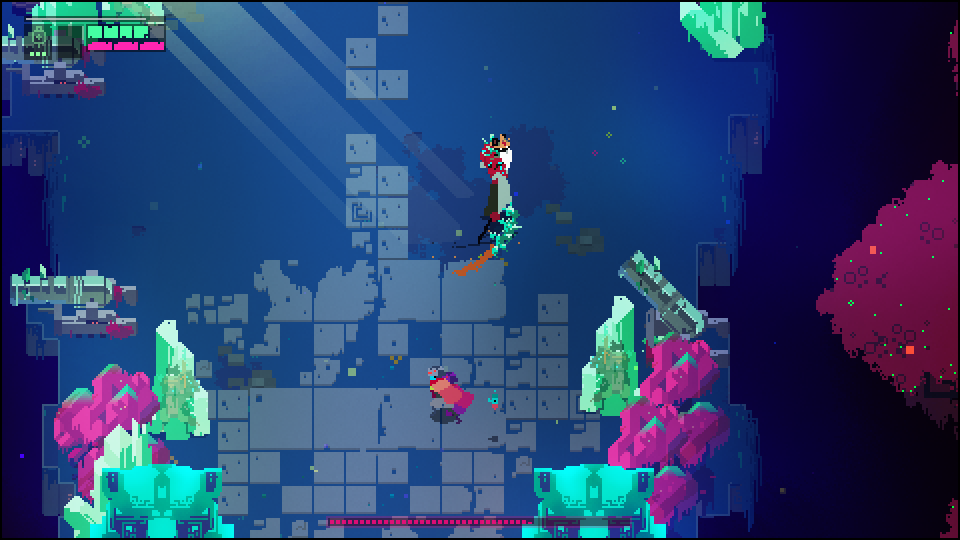hanged_man: (460, 126, 524, 273)
player: (424, 368, 470, 423)
